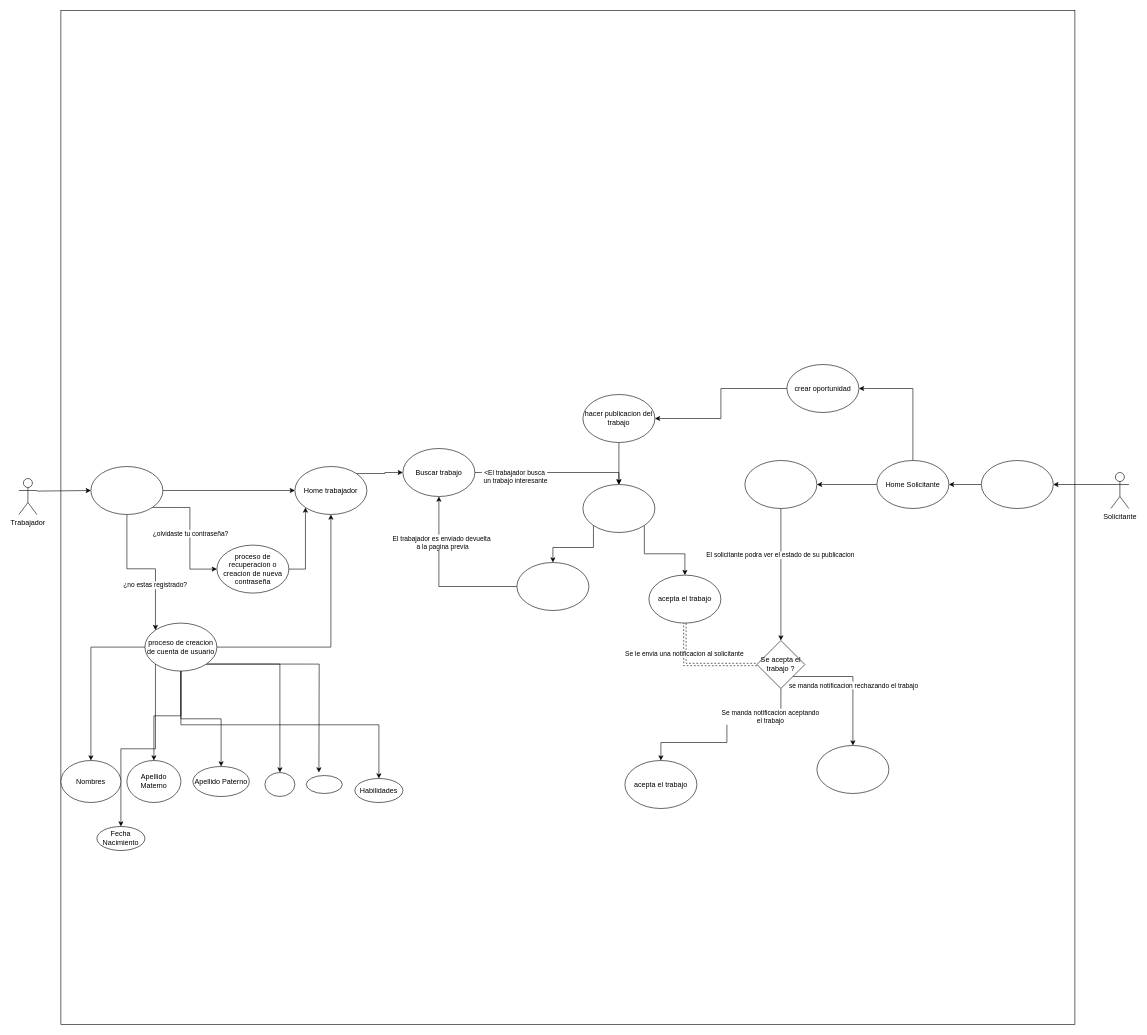
Some shapes in this 1147 by 1035 pixel diagram are drawn without their labels. The box of each missing label's shape, as (x1, y1, x2, y2) in pixels:
Correo: (264, 772, 295, 796)
Elige el trabajo: (582, 484, 655, 532)
estado de publicacion: (744, 460, 817, 508)
Ignora el trabajo: (516, 562, 589, 610)
Log in: (981, 460, 1053, 508)
login: (90, 466, 163, 514)
Rut: (306, 775, 342, 794)
Se rechaza el trabajo: (816, 745, 889, 794)
